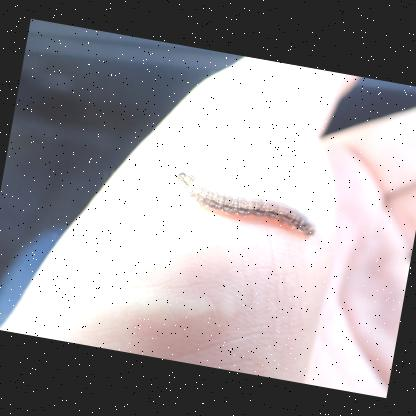Fall Armyworm Larvae: (166, 164, 325, 244)
